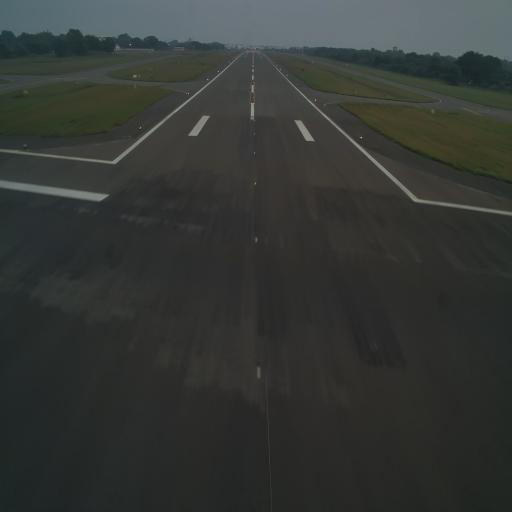on: (254, 364, 262, 384), (253, 233, 260, 246), (253, 178, 257, 188), (253, 129, 257, 138), (358, 135, 364, 141), (252, 149, 257, 156), (138, 124, 142, 132)
